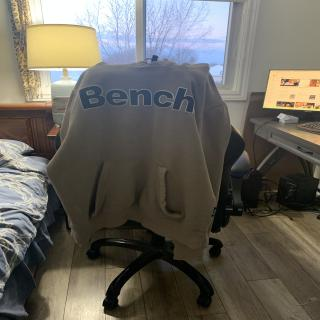Yellow Hoodie: (49, 65, 223, 238)
